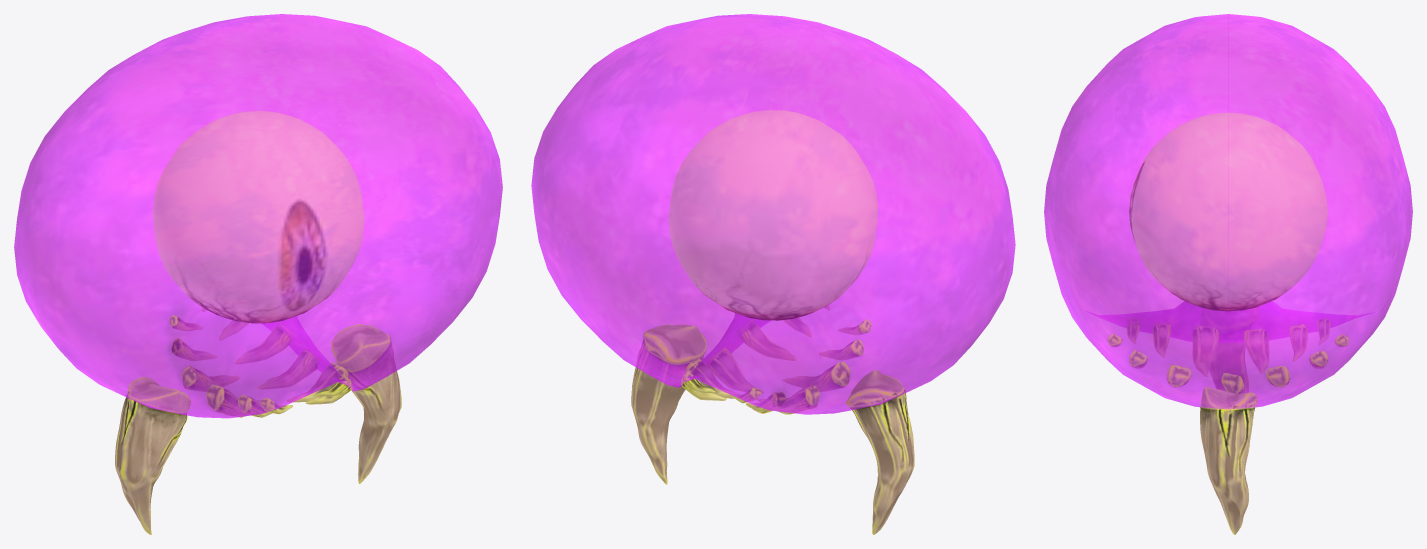
The model's file is eyeball_monster.glb.
3 views of the same model, side by side, from view 1: azimuth 30°, elevation 25°; view 2: azimuth 150°, elevation 25°; view 3: azimuth 270°, elevation 25° (orthographic). The views are drawn at different scales.
Visible parts, largest first — view 1: corble_toz, pSphere1, tooth_zbrush4_2; view 2: corble_toz, pSphere1, tooth_zbrush4_2; view 3: corble_toz, pSphere1, tooth_zbrush4_2.
Boxes of the visible parts, x1,y1,x2,y2 form: corble_toz: (14,14,502,418); pSphere1: (152,111,364,323); tooth_zbrush4_2: (115,308,401,534); corble_toz: (531,14,1015,414); pSphere1: (668,110,878,320); tooth_zbrush4_2: (631,305,914,534); corble_toz: (1044,14,1412,409); pSphere1: (1129,112,1327,311); tooth_zbrush4_2: (1107,319,1348,534).
Size of the model in its own units: 1.97 by 2 by 1.5.
3 materials, 3 textured.
